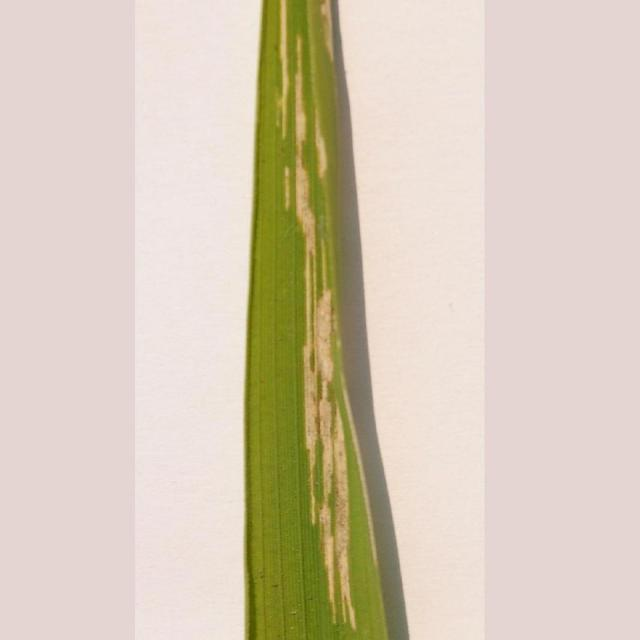leaf blight: (261, 1, 387, 631)
